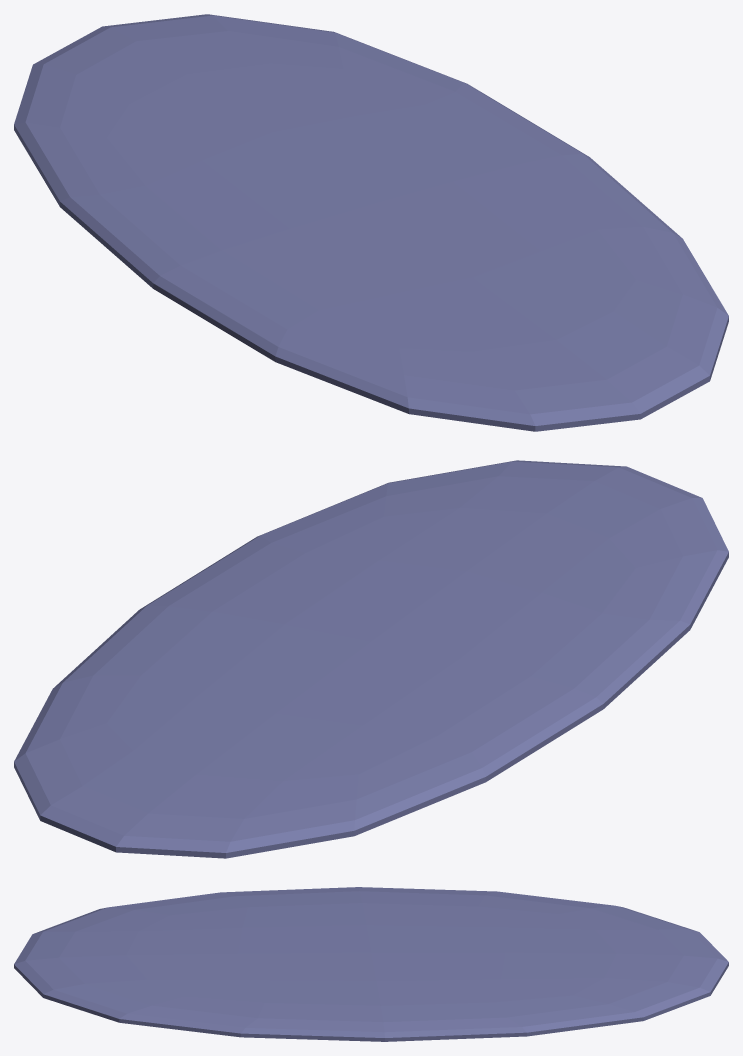
The model's file is Carpet_14.fbx.
3 renders of one model, top to bottom at view 1: azimuth 30°, elevation 25°; view 2: azimuth 150°, elevation 25°; view 3: azimuth 270°, elevation 25°, orthographic. The views are drawn at different scales.
Parts seen in each view (by area): view 1: Carpet_14; view 2: Carpet_14; view 3: Carpet_14.
Boxes of the visible parts, x1,y1,x2,y2 form: Carpet_14: [14, 14, 728, 431]; Carpet_14: [14, 460, 728, 858]; Carpet_14: [14, 887, 728, 1041].
Size of the model in its own units: 166 by 335 by 7.43.
